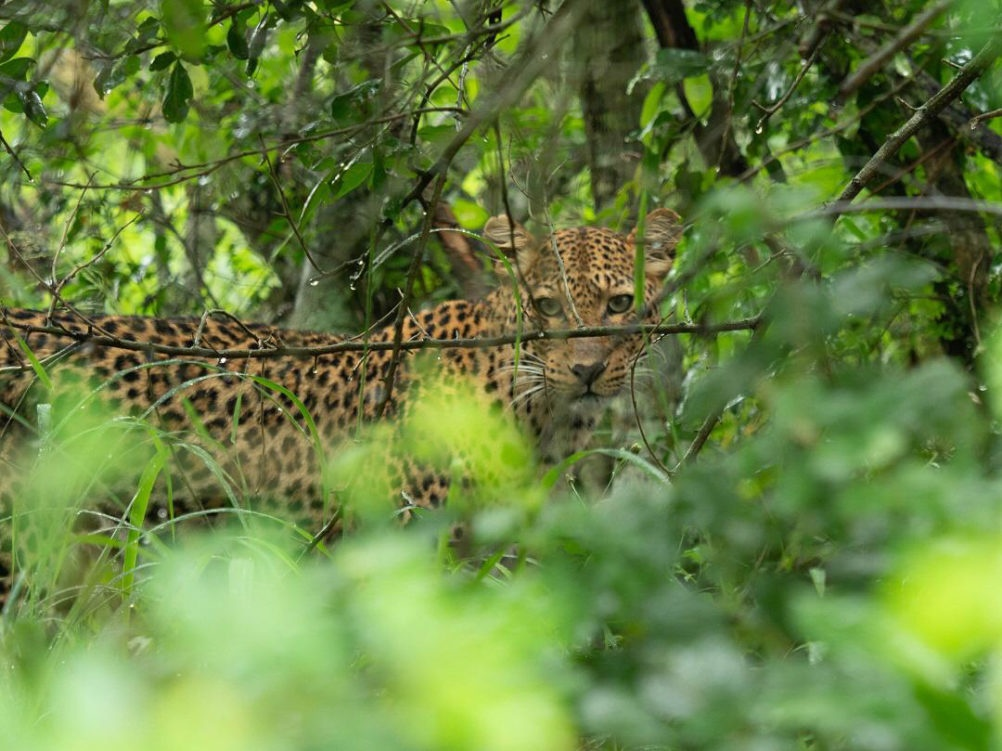leopard: (0, 197, 690, 668)
